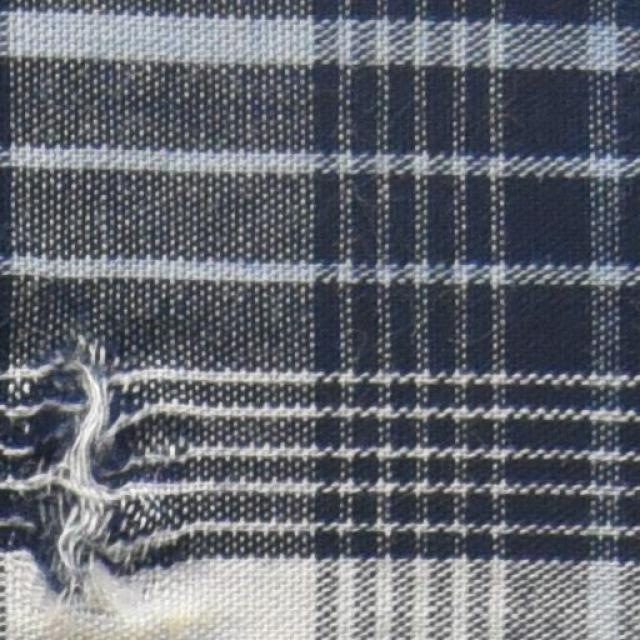Snag: (13, 336, 138, 607)
